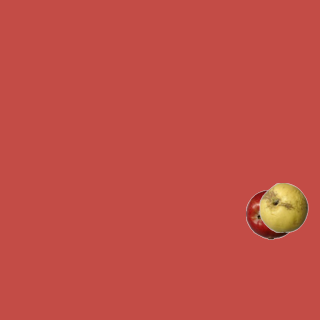Apple Braeburn: (245, 189, 295, 239)
Apple Golden 1: (258, 182, 308, 232)
